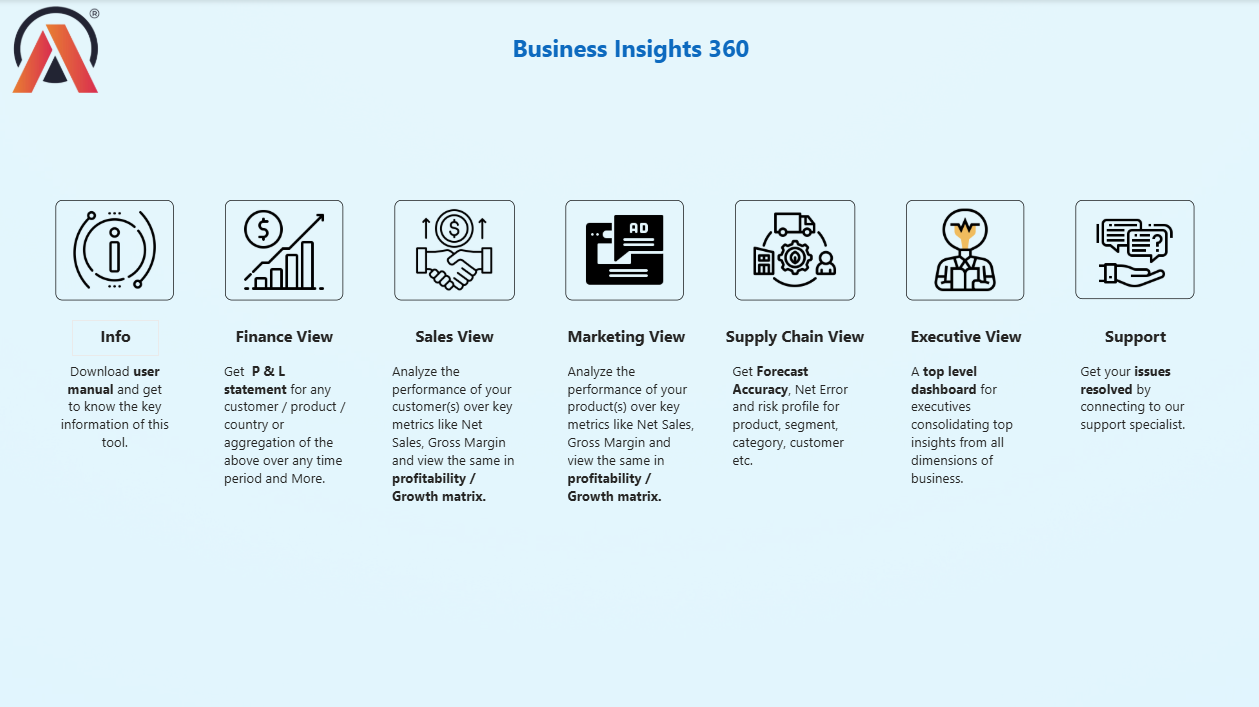

Layout of this report page (visuals, bound fields, positions):
{"tool":"powerbi","page":{"name":"Home Page","canvas":[1280,720],"ordinal":0},"visuals":[{"type":"image","box":[401.3,202.9,121.1,101.5],"z":0},{"type":"image","box":[573.9,202.9,119.6,101.5],"z":1000},{"type":"image","box":[230.2,202.9,119.6,101.5],"z":2000},{"type":"image","box":[917.6,202.9,119.6,101.5],"z":3000},{"type":"image","box":[745,202.9,121.1,101.5],"z":4000},{"type":"image","box":[59.1,202.9,119.6,101.5],"z":5000},{"type":"image","box":[0,0,119.6,99.9],"z":6000},{"type":"textbox","box":[504.2,27.3,271,46.9],"z":7000},{"type":"image","box":[1088.7,202.9,120,100],"z":8000},{"type":"textbox","box":[75.7,324,87.8,36.3],"z":8001},{"type":"textbox","box":[59.1,360.4,119.6,116.6],"z":8002},{"type":"textbox","box":[222.6,324,134.8,36.3],"z":8003},{"type":"textbox","box":[224.1,360.4,134.8,148.4],"z":8004},{"type":"textbox","box":[408.8,324,106,36.3],"z":8005},{"type":"textbox","box":[393.7,360.4,134.8,160.5],"z":8006},{"type":"textbox","box":[561.8,324,146.9,36.3],"z":8007},{"type":"textbox","box":[570.9,360.4,139.3,163.5],"z":8008},{"type":"textbox","box":[723.8,324,163.5,36.3],"z":8009},{"type":"textbox","box":[737.4,360.4,128.7,136.3],"z":8010},{"type":"textbox","box":[896.4,324,163.5,36.3],"z":8011},{"type":"textbox","box":[917.6,360.4,128.7,136.3],"z":8012},{"type":"textbox","box":[1103.9,324,90.9,36.3],"z":8013},{"type":"textbox","box":[1088.7,360.4,148.4,99.9],"z":8014}]}

Visuals, with their boxes in screenshot pixels (x1, y1, x2, y2), scaled from the page's 1280x720 canvas onto the 1259x707 screenshot:
image: bbox(395, 199, 514, 299)
image: bbox(564, 199, 682, 299)
image: bbox(226, 199, 344, 299)
image: bbox(903, 199, 1020, 299)
image: bbox(733, 199, 852, 299)
image: bbox(58, 199, 176, 299)
image: bbox(0, 0, 118, 98)
textbox: bbox(496, 27, 762, 73)
image: bbox(1071, 199, 1189, 297)
textbox: bbox(74, 318, 161, 354)
textbox: bbox(58, 354, 176, 468)
textbox: bbox(219, 318, 352, 354)
textbox: bbox(220, 354, 353, 500)
textbox: bbox(402, 318, 506, 354)
textbox: bbox(387, 354, 520, 511)
textbox: bbox(553, 318, 697, 354)
textbox: bbox(562, 354, 699, 514)
textbox: bbox(712, 318, 873, 354)
textbox: bbox(725, 354, 852, 488)
textbox: bbox(882, 318, 1043, 354)
textbox: bbox(903, 354, 1029, 488)
textbox: bbox(1086, 318, 1175, 354)
textbox: bbox(1071, 354, 1217, 452)
